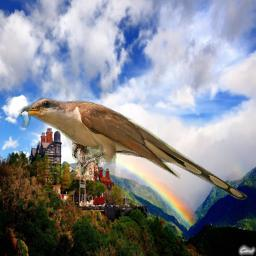Cuckoo: (15, 97, 248, 200)
